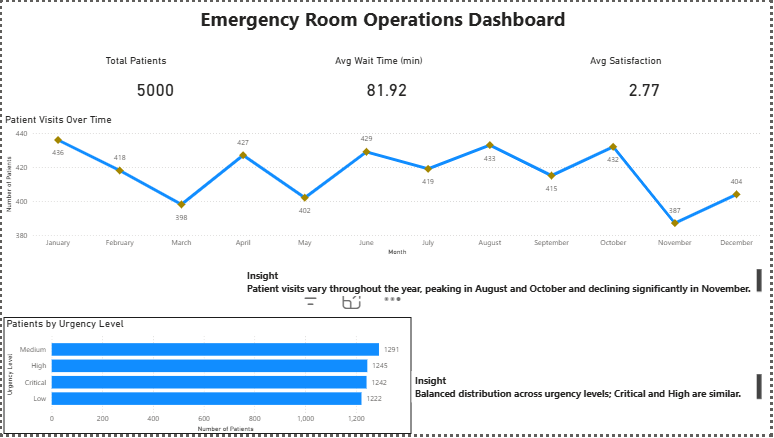

Layout of this report page (visuals, bound fields, positions):
{"tool":"powerbi","page":{"name":"Executive Overview","canvas":[1280,720],"ordinal":0},"visuals":[{"type":"card","title":"Total Patients","fields":{"Values":["CountNonNull(ER Wait Time Dataset.Visit ID)"]},"box":[168,88,174,96],"z":0},{"type":"card","title":"Avg Wait Time (min)","fields":{"Values":["Avg(ER Wait Time Dataset.Total Wait Time (min))"]},"box":[550,88,182,96],"z":1000},{"type":"card","title":"Avg Satisfaction","fields":{"Values":["Avg(ER Wait Time Dataset.Patient Satisfaction)"]},"box":[976,88,190,96],"z":2000},{"type":"lineChart","title":"Patient Visits Over Time","fields":{"Y":["CountNonNull(ER Wait Time Dataset.Visit ID)"],"Category":["ER Wait Time Dataset.Visit Date.Variation.Date Hierarchy.Month"]},"box":[0,184,1270,242],"z":3000},{"type":"clusteredBarChart","title":"Patients by Urgency Level","fields":{"Category":["ER Wait Time Dataset.Urgency Level"],"Y":["CountNonNull(ER Wait Time Dataset.Visit ID)"]},"box":[2,524,680,196],"z":4000},{"type":"textbox","box":[682,616,588,52],"z":5000},{"type":"textbox","box":[402,440,868,50],"z":6000},{"type":"textbox","box":[0,0,1270,54],"z":7000}]}

Visuals, with their boxes in screenshot pixels (x1, y1, x2, y2), scaled from the page's 1280x720 canvas onto the 774x438 screenshot:
"Total Patients" card: x1=102, y1=54, x2=207, y2=112
"Avg Wait Time (min)" card: x1=333, y1=54, x2=443, y2=112
"Avg Satisfaction" card: x1=590, y1=54, x2=705, y2=112
"Patient Visits Over Time" lineChart: x1=0, y1=112, x2=768, y2=259
"Patients by Urgency Level" clusteredBarChart: x1=1, y1=319, x2=412, y2=437
textbox: x1=412, y1=375, x2=768, y2=406
textbox: x1=243, y1=268, x2=768, y2=298
textbox: x1=0, y1=0, x2=768, y2=33
